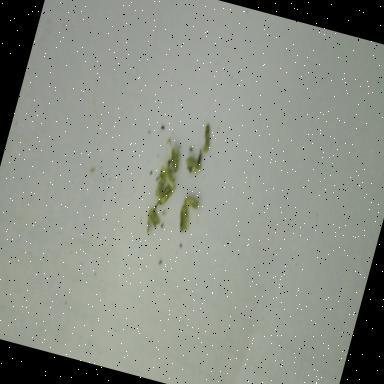pbw: (158, 176, 179, 208), (143, 207, 163, 236), (176, 204, 194, 234), (166, 145, 184, 174), (199, 123, 215, 153), (183, 154, 204, 176), (154, 169, 168, 198), (160, 166, 178, 188), (182, 194, 200, 210)
